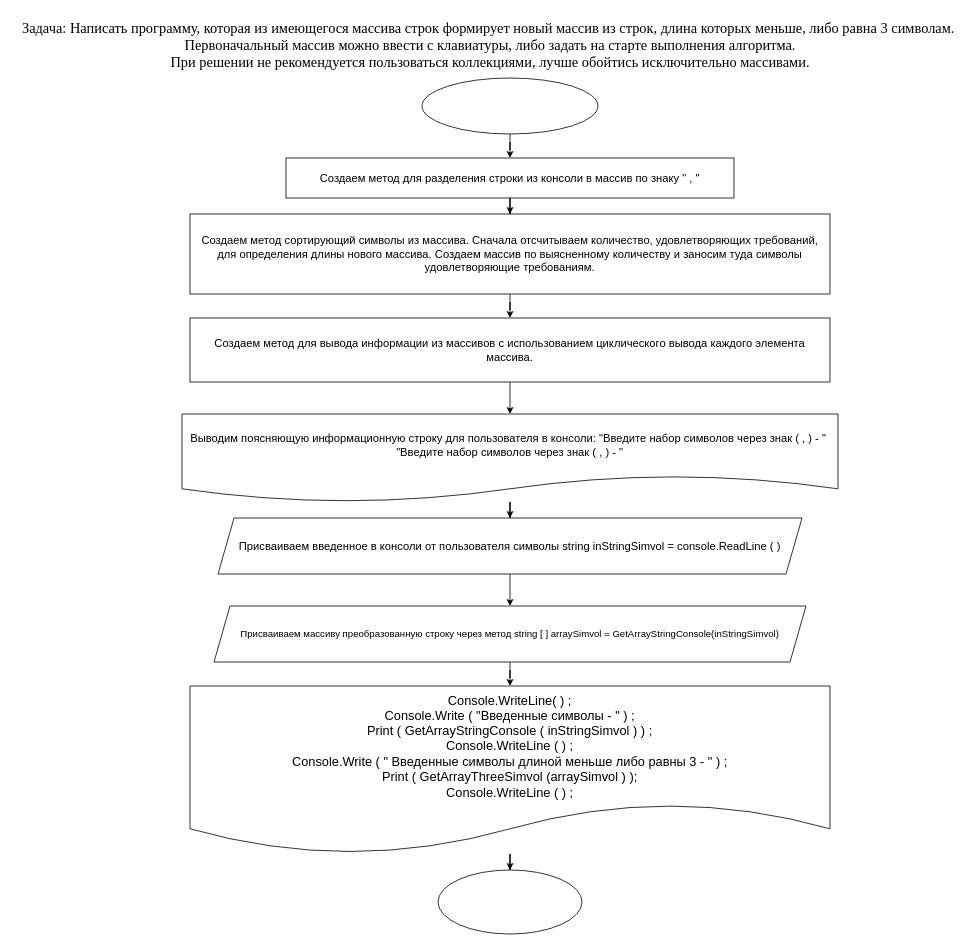
Some shapes in this 979 by 948 pixel diagram are drawn without their labels. Here are the shapes that lost their labels. From the top down, the centre of each, then its label:
At (x=509, y=105): "Start".
At (x=509, y=901): "End".
